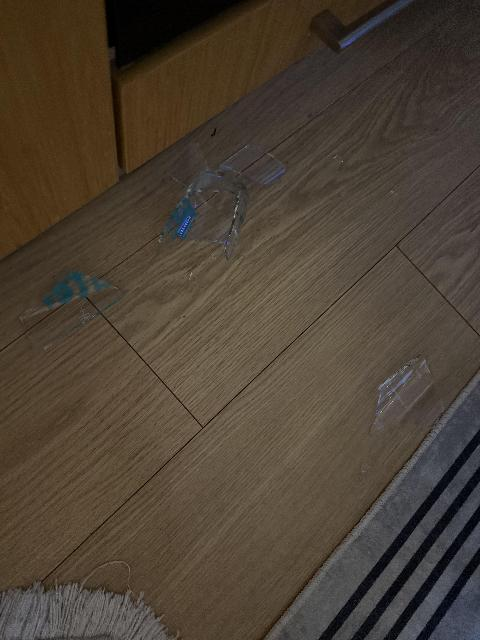Cam: (158, 137, 289, 267), (13, 266, 131, 357), (362, 347, 438, 436)
